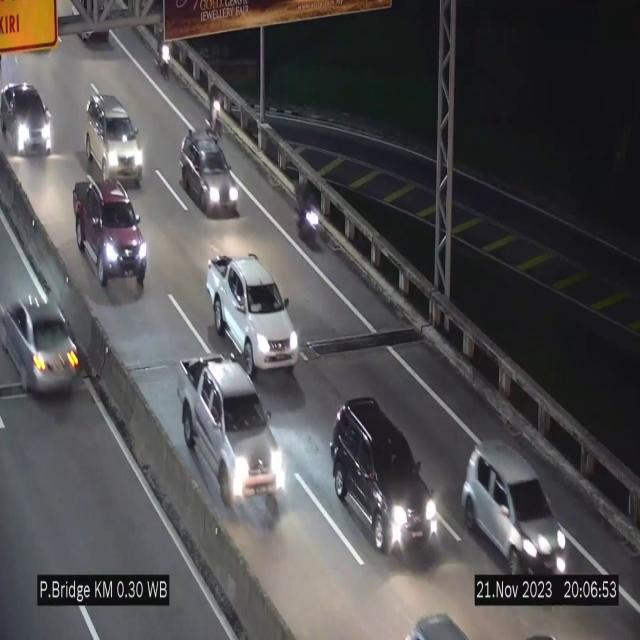Car: (178, 356, 282, 527), (331, 397, 441, 558), (461, 442, 568, 574), (207, 256, 299, 377), (74, 178, 146, 296), (175, 126, 244, 220), (86, 93, 144, 186), (0, 83, 60, 159)
Motorcycle: (297, 178, 321, 258), (156, 26, 173, 89), (208, 92, 222, 143)
